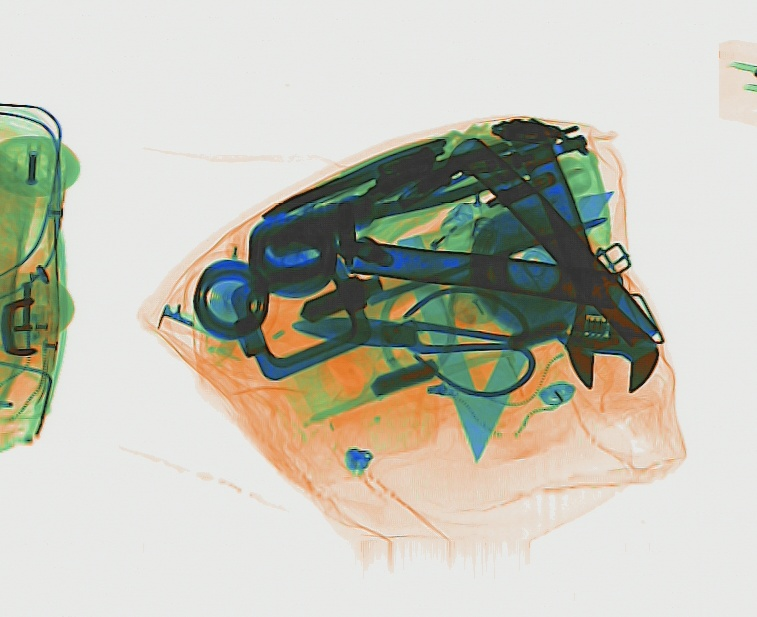scissors: (289, 281, 540, 399)
